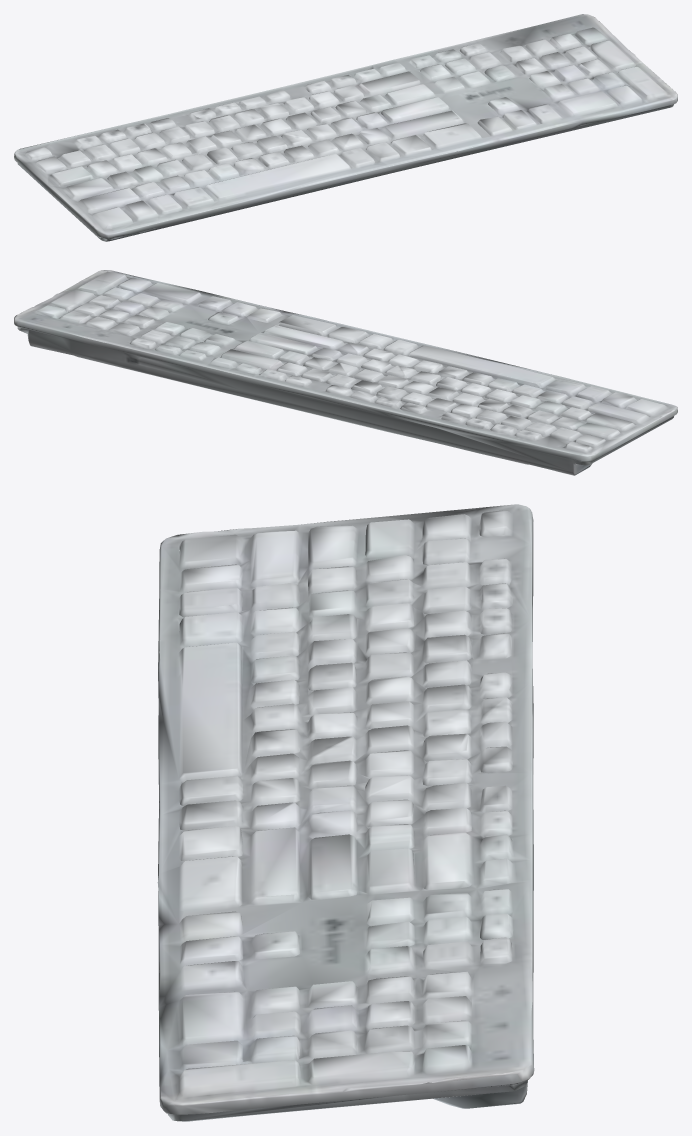
Rendered from Kanex_MultiSync_Wireless_Keyboard-high.glb.
The picture shows the model from 3 angles, top to bottom: view 1: azimuth 30°, elevation 25°; view 2: azimuth 150°, elevation 25°; view 3: azimuth 270°, elevation 25°; orthographic projection. The views are drawn at different scales.
Visible parts, largest first — view 1: Kanex_MultiSync_Wireless_Keyboard; view 2: Kanex_MultiSync_Wireless_Keyboard; view 3: Kanex_MultiSync_Wireless_Keyboard.
Boxes of the visible parts, x1,y1,x2,y2 form: Kanex_MultiSync_Wireless_Keyboard: [14, 14, 677, 241]; Kanex_MultiSync_Wireless_Keyboard: [14, 270, 677, 475]; Kanex_MultiSync_Wireless_Keyboard: [157, 504, 534, 1121].
Bounding box in the file's own units: 0.4418 × 0.0235 × 0.1243.
Materials: 1 (1 with a texture image).
